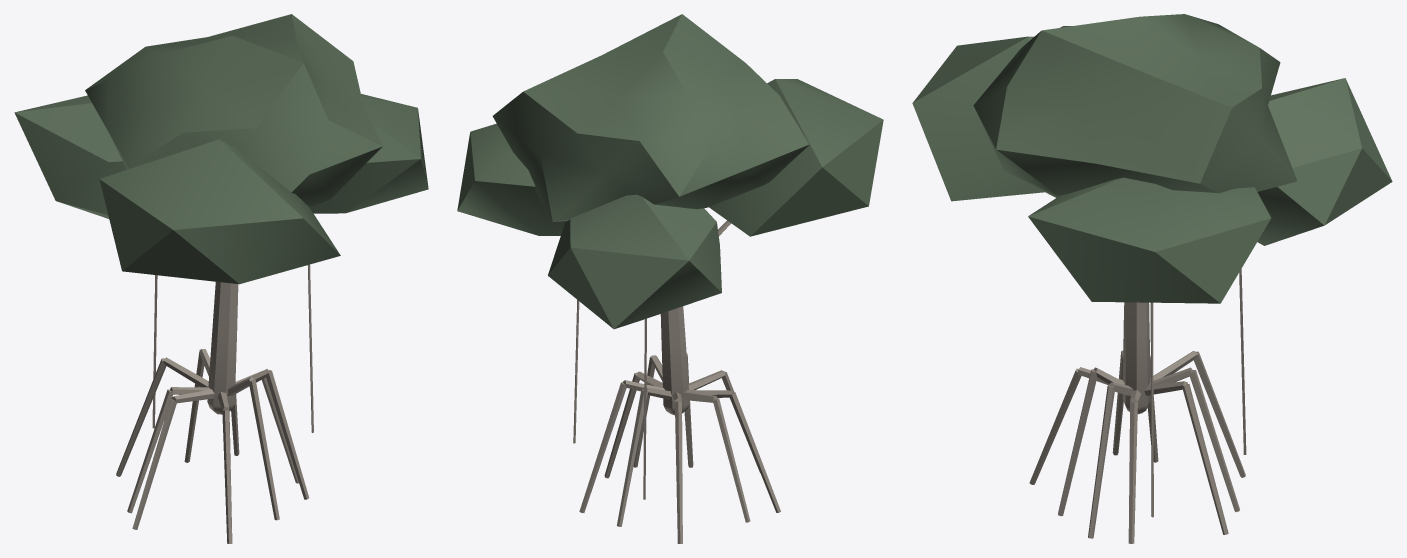
Rendered from mangrove_a.gltf.
3 views of the same model, side by side, from view 1: azimuth 30°, elevation 25°; view 2: azimuth 150°, elevation 25°; view 3: azimuth 270°, elevation 25° (orthographic). The views are drawn at different scales.
Parts seen in each view (by area): view 1: Body; view 2: Body; view 3: Body.
Part boxes in pixels (x1,y1,x2,y2): Body: (14, 14, 428, 543); Body: (457, 14, 883, 543); Body: (912, 14, 1392, 543).
Bounding box in the file's own units: 7.3 × 9.04 × 7.94.
